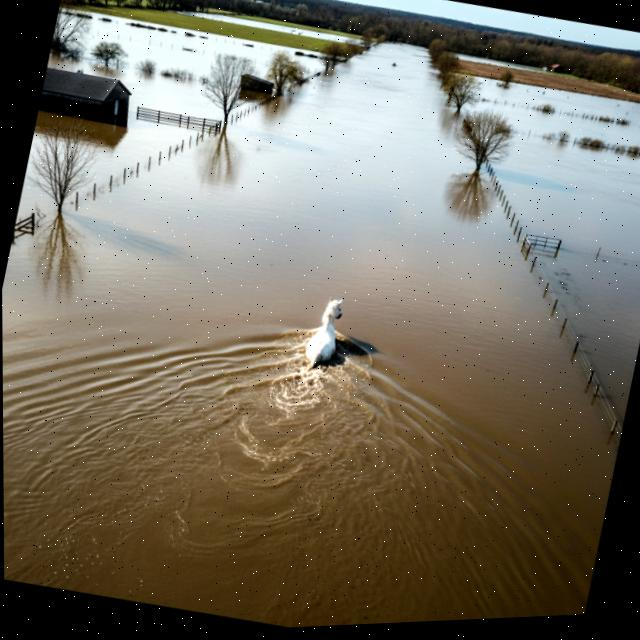horse: (293, 280, 361, 383)
